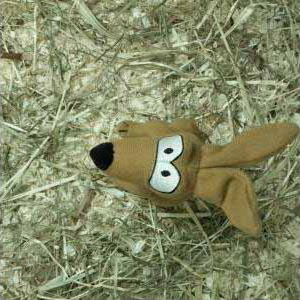dog: (90, 117, 300, 240)
